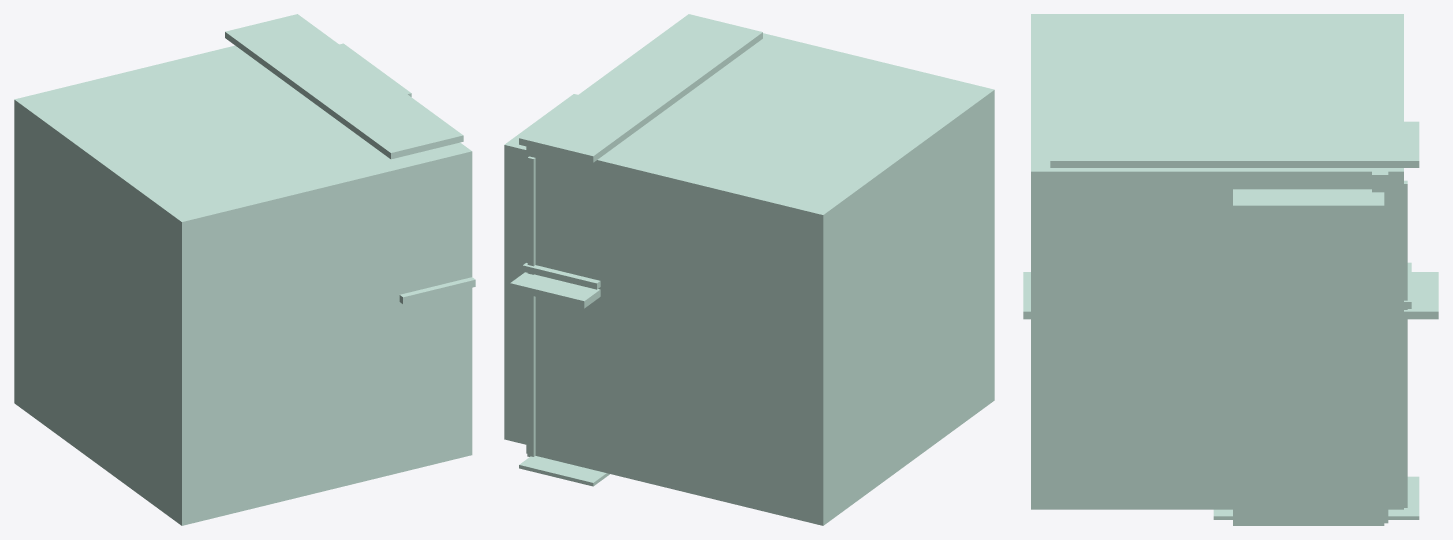
3 renders of one model, left to right at view 1: azimuth 30°, elevation 25°; view 2: azimuth 150°, elevation 25°; view 3: azimuth 270°, elevation 25°, orthographic. The views are drawn at different scales.
Parts seen in each view (by area): view 1: Renderer Node; view 2: Renderer Node; view 3: Renderer Node.
Part boxes in pixels (x1,y1,x2,y2): Renderer Node: (14, 14, 475, 525); Renderer Node: (504, 14, 994, 525); Renderer Node: (1023, 14, 1438, 525).
Size of the model in its own units: 0.8281 by 0.7969 by 0.8359.
